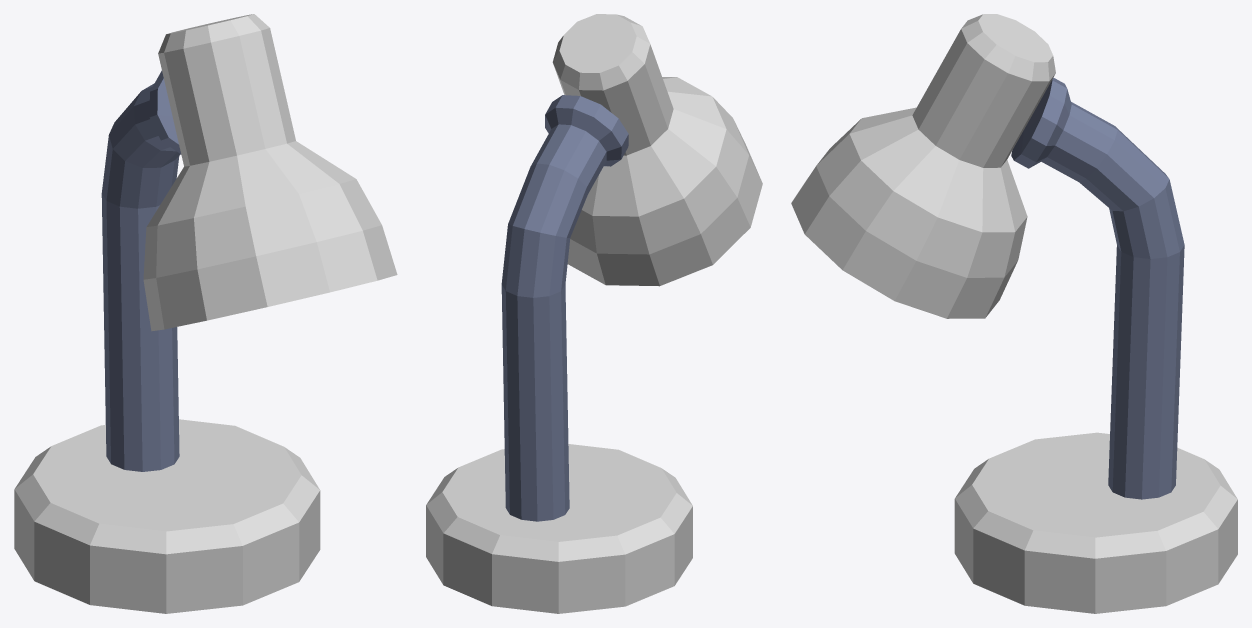
The model's file is SM_lamp_01.fbx.
3 renders of one model, left to right at view 1: azimuth 30°, elevation 25°; view 2: azimuth 150°, elevation 25°; view 3: azimuth 270°, elevation 25°, orthographic. The views are drawn at different scales.
Parts seen in each view (by area): view 1: SM_Lamp_01.001, SM_Lamp_01; view 2: SM_Lamp_01.001, SM_Lamp_01; view 3: SM_Lamp_01.001, SM_Lamp_01.
Boxes of the visible parts, bbox=[...] form: SM_Lamp_01.001: bbox=[14, 70, 320, 613]; SM_Lamp_01: bbox=[143, 14, 397, 331]; SM_Lamp_01.001: bbox=[426, 95, 692, 613]; SM_Lamp_01: bbox=[552, 14, 762, 286]; SM_Lamp_01.001: bbox=[954, 77, 1237, 613]; SM_Lamp_01: bbox=[791, 14, 1055, 318].
Bounding box in the file's own units: 35.11 × 72.97 × 55.42.
